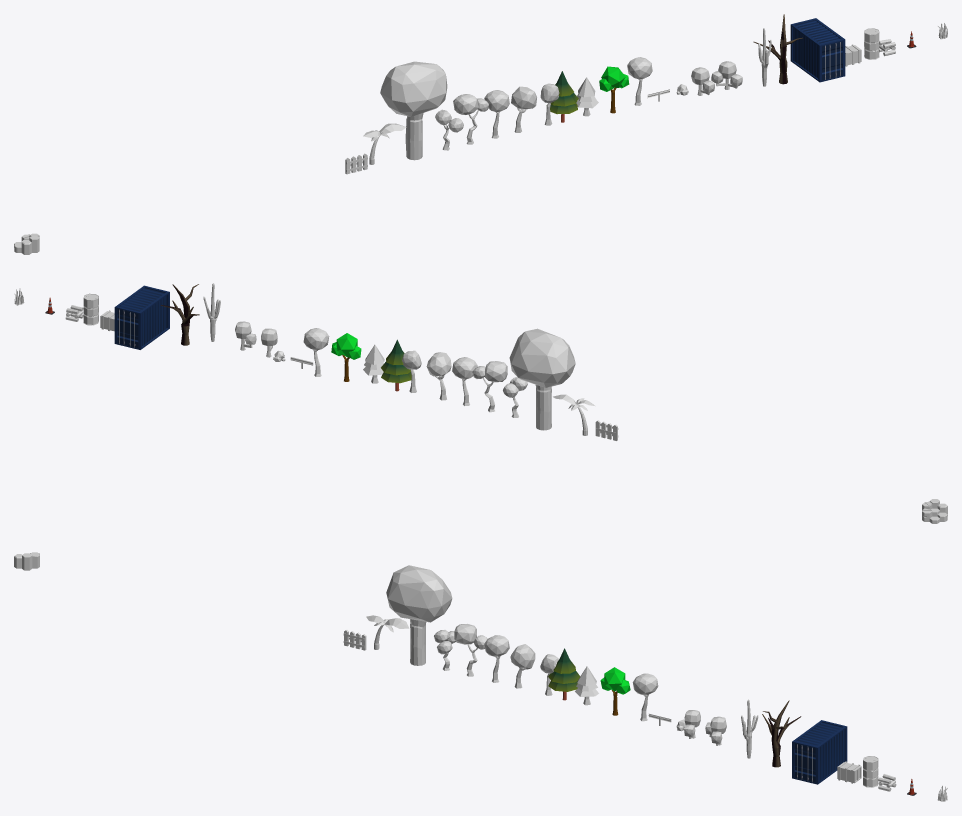
File: Modelos_avulcos.fbx
3 renders of one model, top to bottom at view 1: azimuth 30°, elevation 25°; view 2: azimuth 150°, elevation 25°; view 3: azimuth 330°, elevation 25°, orthographic.
Visible parts, largest first — view 1: Arvore_mogno, Container, Pinheiro, Arvore_nova_5, Arvore_nova_7, Arvore_nova_3, Arbusto_Duplo, Arvore_nova_8, Arvore Seca, Arvore_nova_2; view 2: Arvore_mogno, Container, Pinheiro, Arvore_nova_5, Arvore_nova_7, Arvore_nova_3, Arvore Seca, Arvore_nova_8, Arvore_nova_2, Formacao hexagonal; view 3: Arvore_mogno, Container, Pinheiro, Arvore_nova_5, Arvore_nova_7, Arvore Seca, Arvore_nova_3, Arvore_nova_8, Arvore_nova_2, Arvore_nova_4.
Part boxes in pixels (x1,y1,x2,y2): Arvore_mogno: (380,61,447,160); Container: (790,18,845,82); Pinheiro: (546,71,578,122); Arvore_nova_5: (453,94,488,144); Arvore_nova_7: (599,66,629,113); Arvore_nova_3: (511,86,536,132); Arbusto_Duplo: (711,61,742,89); Arvore_nova_8: (627,57,652,105); Arvore Seca: (753,14,802,84); Arvore_nova_2: (484,90,509,138); Arvore_mogno: (509,328,575,430); Container: (114,285,169,349); Pinheiro: (381,339,411,391); Arvore_nova_5: (472,361,507,412); Arvore_nova_7: (331,333,361,381); Arvore_nova_3: (426,352,451,400); Arvore Seca: (160,284,199,345); Arvore_nova_8: (303,328,329,376); Arvore_nova_2: (452,357,477,406); Formacao hexagonal: (922,499,947,523); Arvore_mogno: (386,565,452,665); Container: (792,720,847,784); Pinheiro: (548,648,579,700); Arvore_nova_5: (454,624,487,676); Arvore_nova_7: (600,667,630,715); Arvore Seca: (762,700,801,767); Arvore_nova_3: (510,644,535,688); Arvore_nova_8: (632,673,658,721); Arvore_nova_2: (484,635,509,682); Arvore_nova_4: (575,666,598,705).
Size of the model in its own units: 7967 by 843 by 475.
